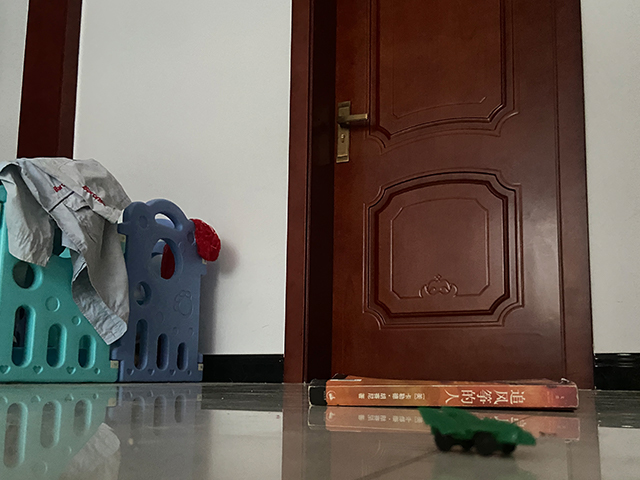book: (305, 371, 581, 412)
